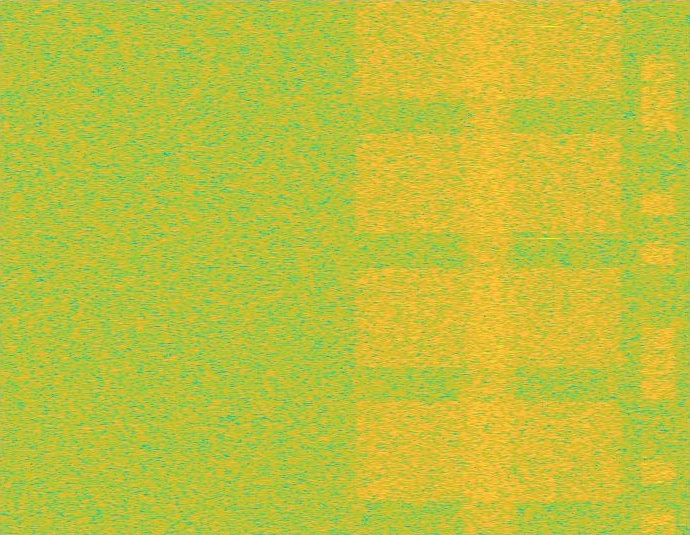5G: (350, 0, 626, 534)
DSSS: (457, 0, 519, 534)
LTE: (641, 0, 676, 534)
Radar: (542, 0, 556, 534)
